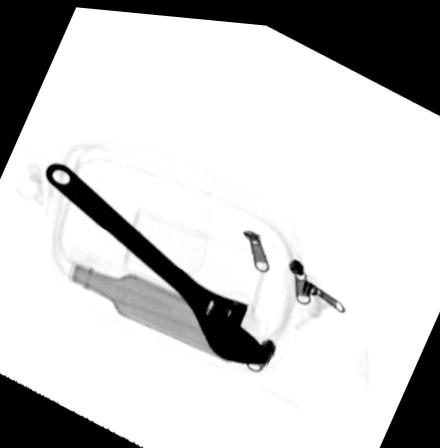Wrench: (44, 161, 279, 364)
